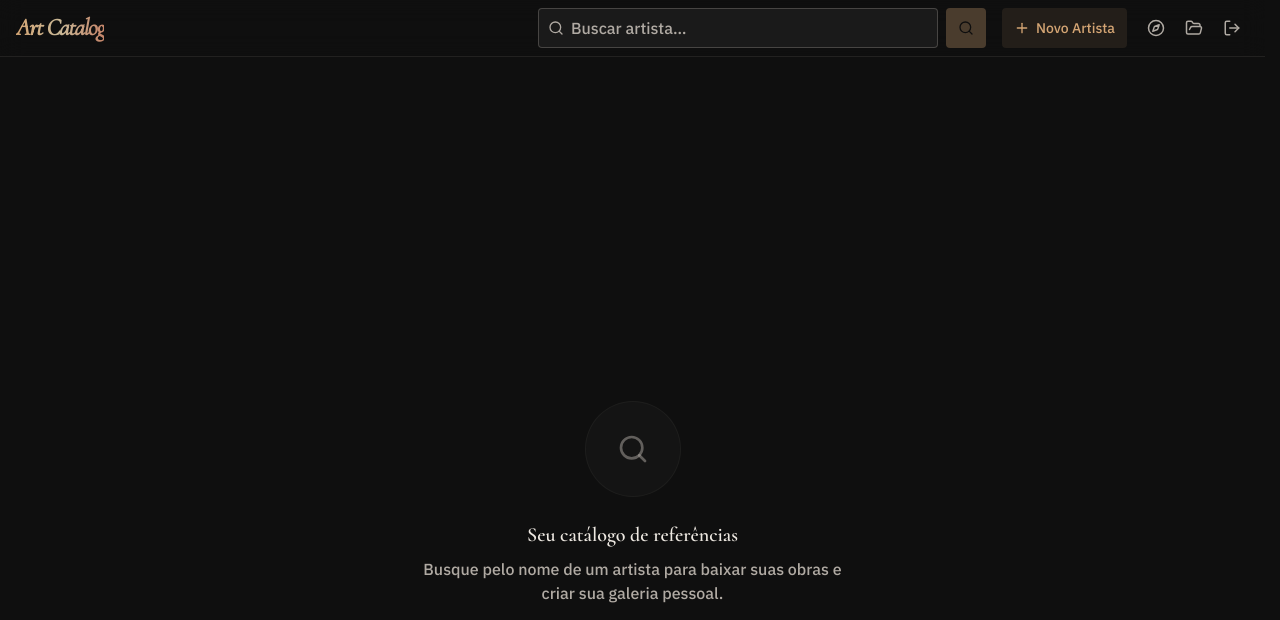
Scenario: SearchPage › shows dedup suggestion when server returns mismatched
Type "van" into the field with placeholder "Buscar artista…" at {"x": 738, "y": 28}, box 538,8 -> 938,48
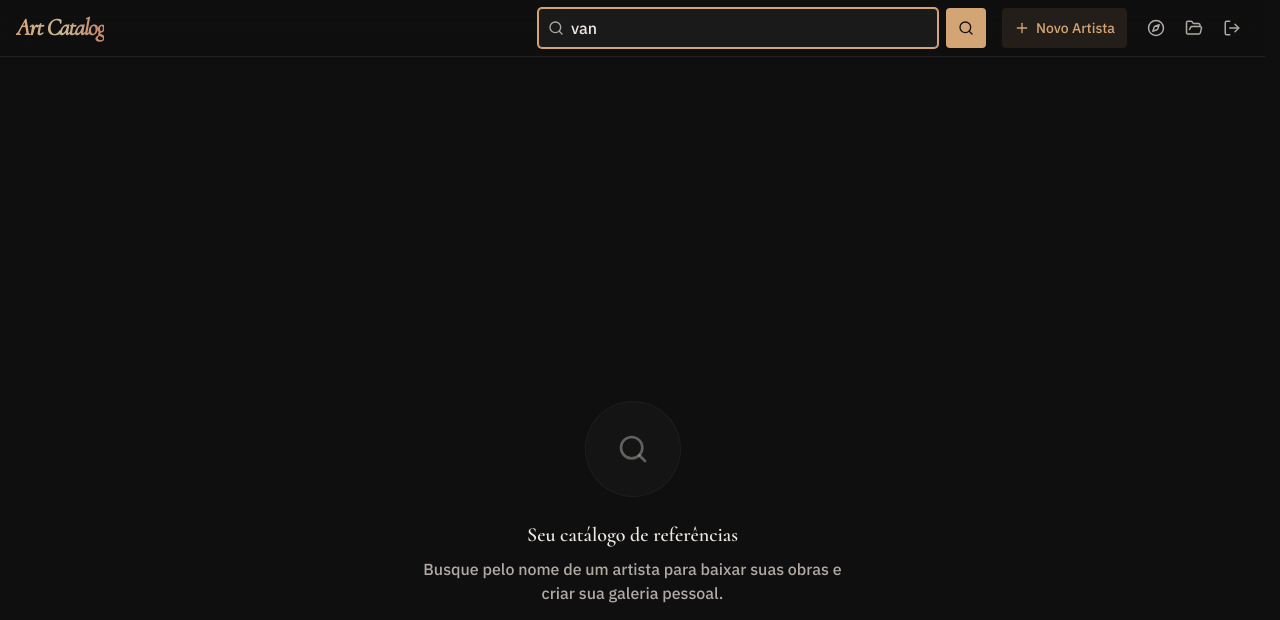
Click the button named "Buscar" at {"x": 966, "y": 28}, box 946,8 -> 986,48
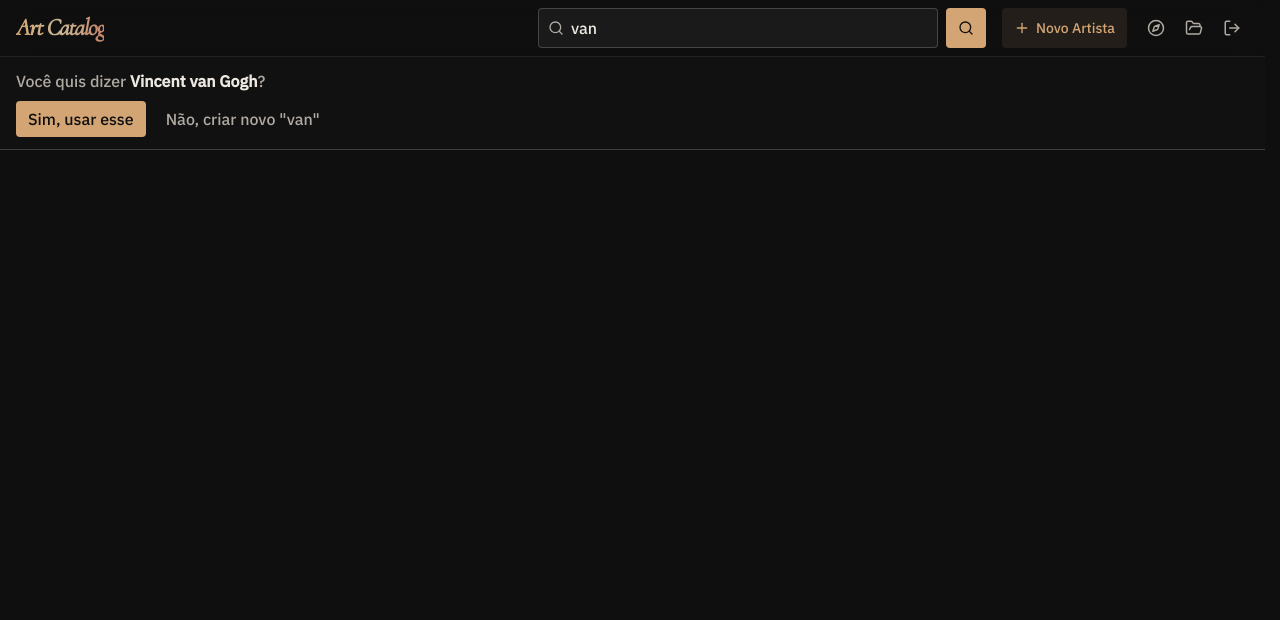
Check: the text "Vincent van Gogh" is shown, box 130,71 -> 257,91
Check: the button "Sim, usar esse" is shown, box 16,101 -> 146,137
